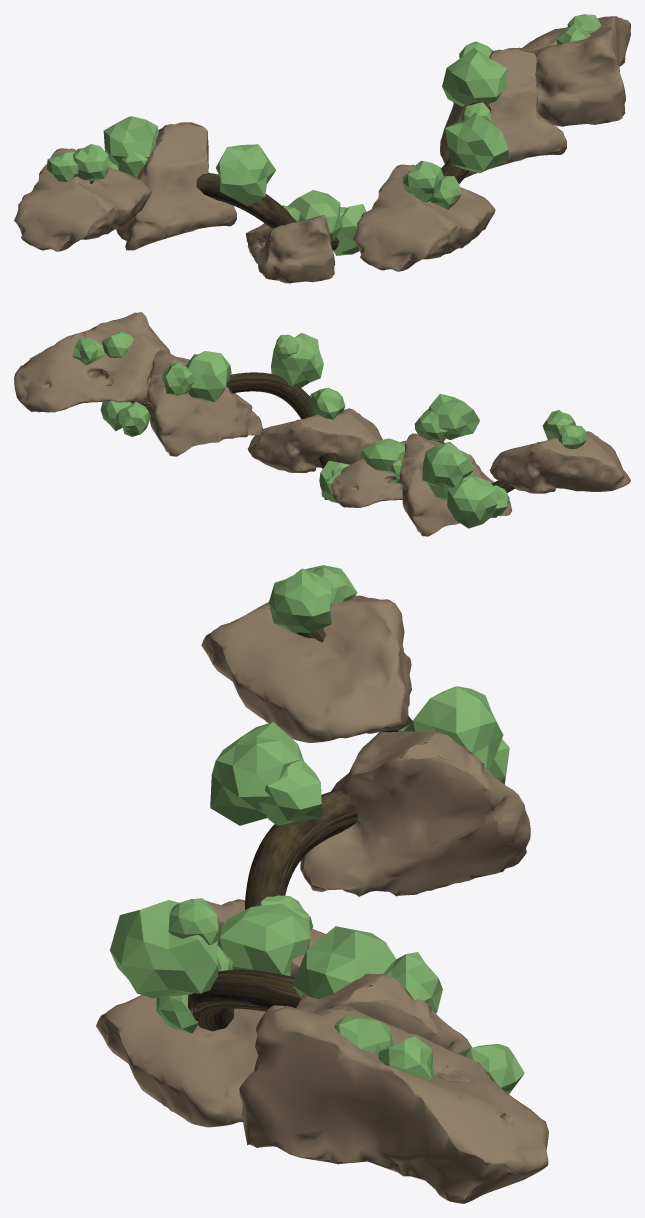
Rendered from garden.glb.
3 renders of one model, top to bottom at view 1: azimuth 30°, elevation 25°; view 2: azimuth 150°, elevation 25°; view 3: azimuth 270°, elevation 25°, orthographic. The views are drawn at different scales.
Parts seen in each view (by area): view 1: garden; view 2: garden; view 3: garden.
Boxes of the visible parts, box(x1,y1,x2,y2) form: garden: box(14, 14, 630, 283); garden: box(14, 312, 630, 536); garden: box(96, 565, 548, 1203).
Size of the model in its own units: 1.94 by 0.479 by 0.6745.
3 materials, 1 textured.
